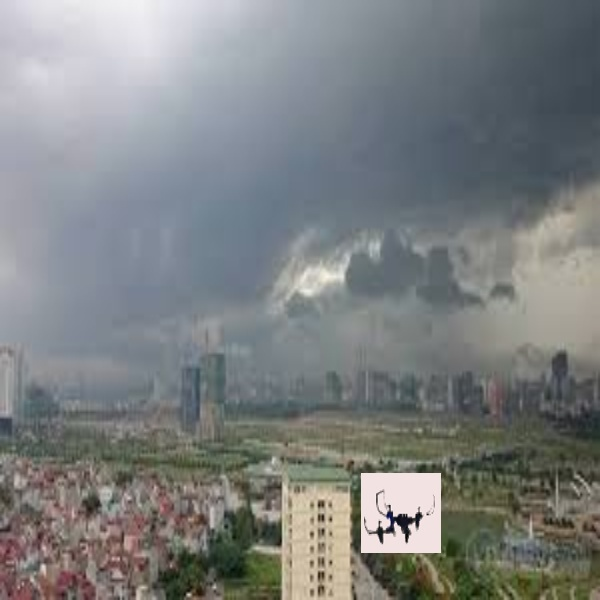drone: (361, 485, 438, 551)
